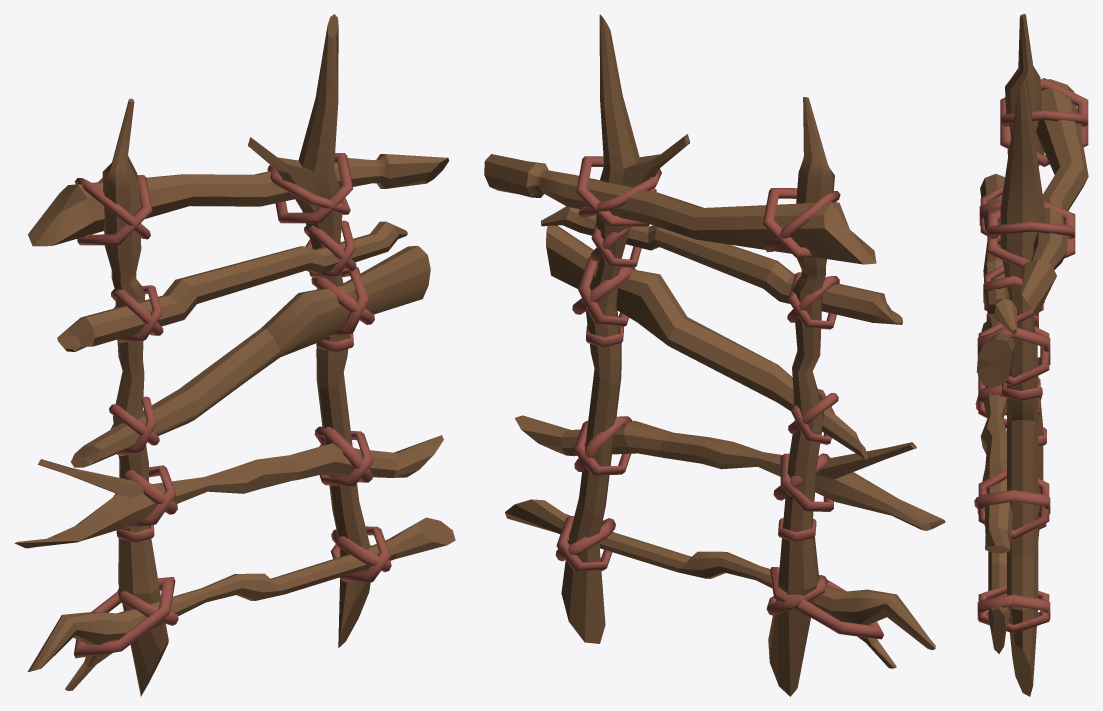
Rendered from Fence1.fbx.
The picture shows the model from 3 angles, left to right: view 1: azimuth 30°, elevation 25°; view 2: azimuth 150°, elevation 25°; view 3: azimuth 270°, elevation 25°; orthographic projection. The views are drawn at different scales.
Visible parts, largest first — view 1: pCylinder4, pCylinder2, pCylinder1, pCylinder7, pCylinder6, pCylinder3, pCylinder5, Ropes9, Ropes11, Ropes, Ropes21, Ropes12 (+10 smaller); view 2: pCylinder2, pCylinder1, pCylinder7, pCylinder4, pCylinder6, pCylinder3, pCylinder5, Ropes9, Ropes11, Ropes, Ropes15, Ropes21 (+10 smaller); view 3: pCylinder2, pCylinder7, pCylinder6, pCylinder1, pCylinder5, pCylinder4, pCylinder3, Ropes12, Ropes2, Ropes18, Ropes11, Ropes19 (+12 smaller).
Part boxes in pixels (x1,y1,x2,y2): pCylinder4: [71, 245, 430, 467]; pCylinder2: [248, 14, 370, 647]; pCylinder1: [102, 98, 168, 696]; pCylinder7: [28, 154, 449, 246]; pCylinder6: [14, 435, 443, 548]; pCylinder3: [27, 517, 455, 690]; pCylinder5: [57, 221, 407, 351]; Ropes9: [74, 577, 175, 658]; Ropes11: [275, 153, 352, 223]; Ropes: [77, 175, 152, 245]; Ropes21: [331, 526, 390, 582]; Ropes12: [267, 165, 350, 214]; pCylinder2: [561, 14, 689, 643]; pCylinder1: [768, 97, 834, 696]; pCylinder7: [484, 154, 876, 264]; pCylinder4: [546, 225, 867, 459]; pCylinder6: [515, 415, 945, 530]; pCylinder3: [505, 499, 935, 668]; pCylinder5: [541, 206, 902, 324]; Ropes9: [769, 567, 883, 639]; Ropes11: [576, 156, 656, 226]; Ropes: [763, 188, 817, 257]; Ropes15: [578, 257, 628, 327]; Ropes21: [556, 516, 612, 571]; pCylinder2: [1000, 78, 1044, 696]; pCylinder7: [1021, 79, 1088, 316]; pCylinder6: [978, 375, 1012, 553]; pCylinder1: [1005, 14, 1044, 538]; pCylinder5: [980, 174, 1016, 334]; pCylinder4: [976, 317, 1015, 387]; pCylinder3: [988, 551, 1009, 653]; Ropes12: [987, 201, 1075, 268]; Ropes2: [1000, 78, 1088, 166]; Ropes18: [978, 469, 1049, 539]; Ropes11: [987, 221, 1075, 245]; Ropes19: [977, 490, 1050, 517].
Bounding box in the file's own units: 8.63 × 11.71 × 1.97.
